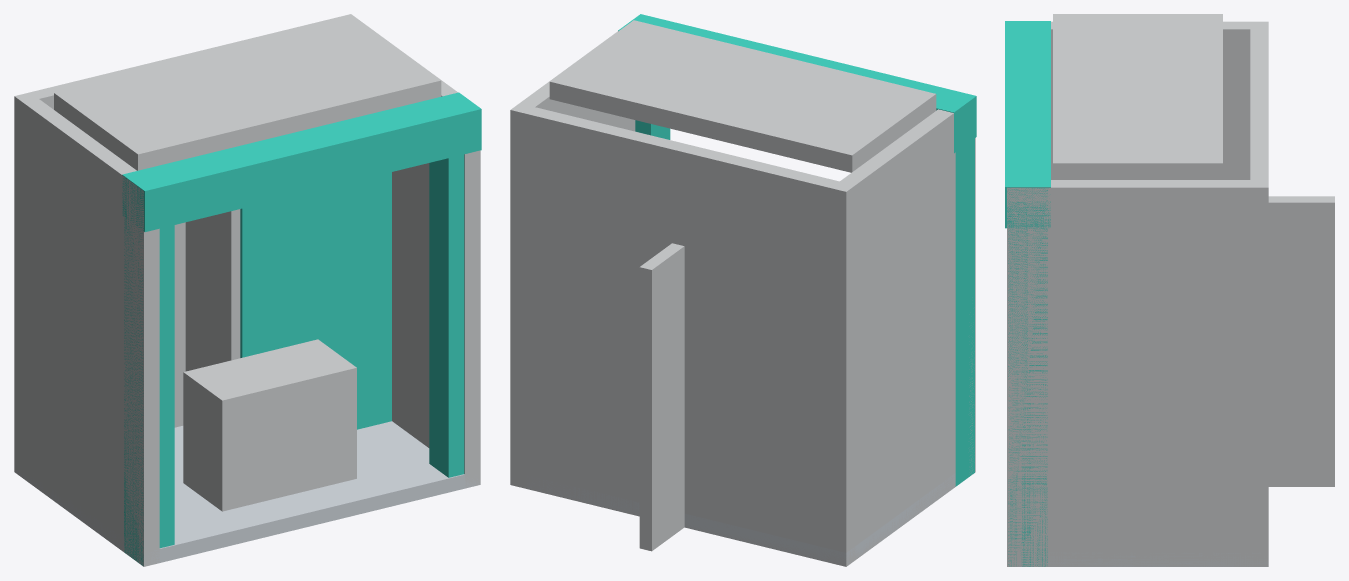
3 views of the same model, side by side, from view 1: azimuth 30°, elevation 25°; view 2: azimuth 150°, elevation 25°; view 3: azimuth 270°, elevation 25° (orthographic).
Parts seen in each view (by area): view 1: Exhibition Booth Concept; view 2: Exhibition Booth Concept; view 3: Exhibition Booth Concept.
Part boxes in pixels (x1,y1,x2,y2): Exhibition Booth Concept: (14,14,481,566); Exhibition Booth Concept: (510,14,976,566); Exhibition Booth Concept: (1005,14,1334,566).
Size of the model in its own units: 3 by 3.34 by 2.52.
